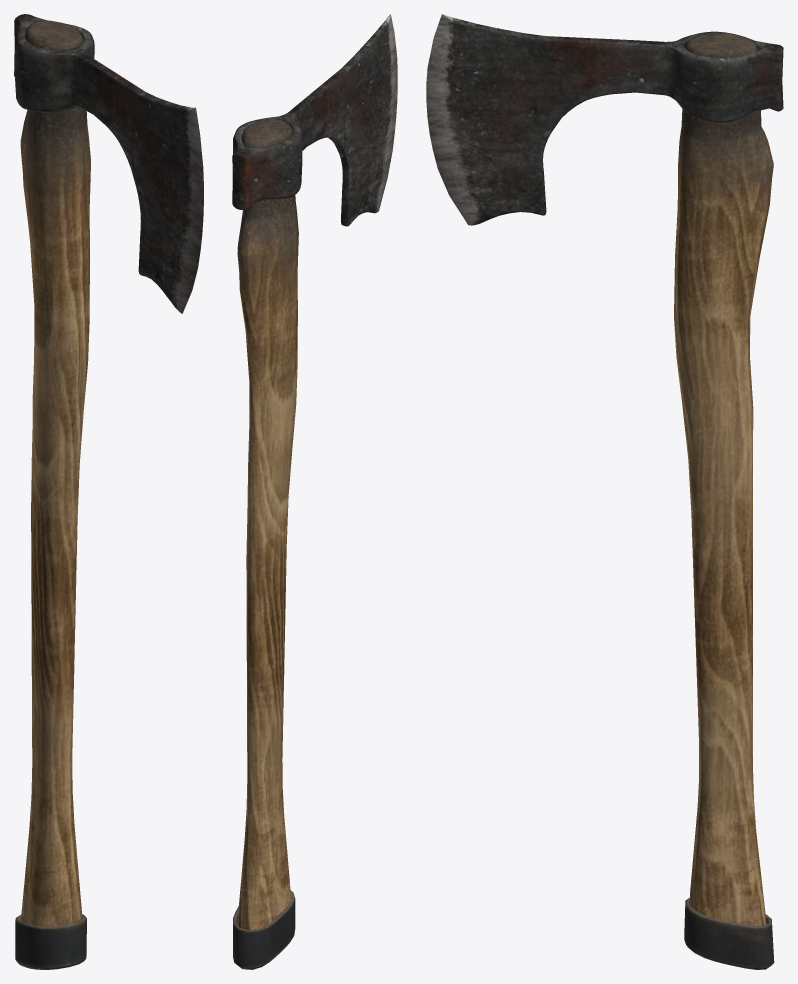
Rendered from wooden_axe.glb.
The picture shows the model from 3 angles, left to right: view 1: azimuth 30°, elevation 25°; view 2: azimuth 150°, elevation 25°; view 3: azimuth 270°, elevation 25°; orthographic projection. The views are drawn at different scales.
Visible parts, largest first — view 1: wooden_axe; view 2: wooden_axe; view 3: wooden_axe.
Boxes of the visible parts, x1,y1,x2,y2 form: wooden_axe: (14,14,203,969); wooden_axe: (232,14,397,969); wooden_axe: (426,14,783,969).
Bounding box in the file's own units: 0.0472 × 0.6303 × 0.2143.
1 material, 1 textured.
